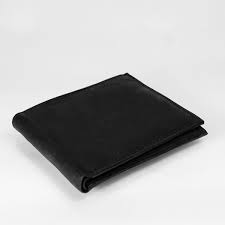monedero: (12, 72, 208, 194)
